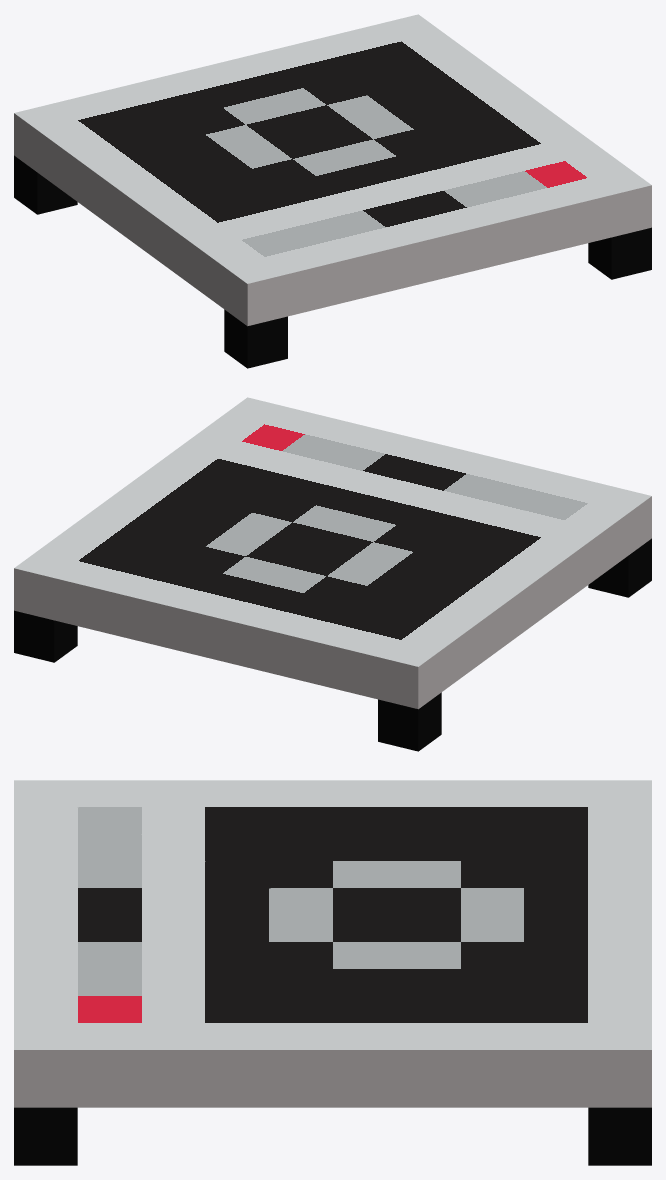
File: hotplate.gltf
3 views of the same model, one above another, from view 1: azimuth 30°, elevation 25°; view 2: azimuth 150°, elevation 25°; view 3: azimuth 270°, elevation 25° (orthographic). The views are drawn at different scales.
Visible parts, largest first — view 1: base, foot_0, foot_1, foot_3; view 2: base, foot_3, foot_2, foot_0; view 3: base, foot_1, foot_2.
Part boxes in pixels (left/top/right/bottom): base: left=14, top=14, right=651, bottom=326; foot_0: left=224, top=309, right=287, bottom=368; foot_1: left=588, top=227, right=651, bottom=279; foot_3: left=14, top=155, right=77, bottom=214; base: left=14, top=397, right=651, bottom=709; foot_3: left=378, top=692, right=441, bottom=751; foot_2: left=14, top=610, right=77, bottom=662; foot_0: left=588, top=538, right=651, bottom=597; base: left=14, top=780, right=651, bottom=1107; foot_1: left=14, top=1107, right=77, bottom=1165; foot_2: left=588, top=1107, right=651, bottom=1165.
Size of the model in its own units: 0.625 by 0.125 by 0.625.
Materials: 2 (2 with a texture image).
